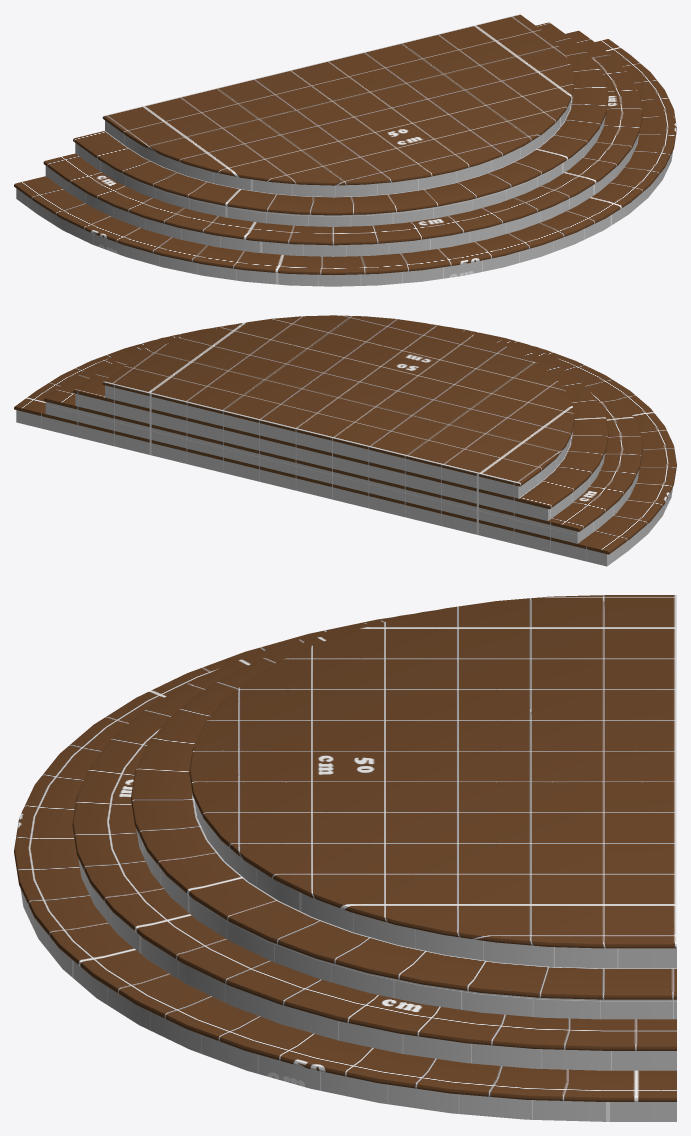
File: M01StairCase01_1.FBX
3 renders of one model, top to bottom at view 1: azimuth 30°, elevation 25°; view 2: azimuth 150°, elevation 25°; view 3: azimuth 270°, elevation 25°, orthographic. The views are drawn at different scales.
Visible parts, largest first — view 1: M01StairCase01_1; view 2: M01StairCase01_1; view 3: M01StairCase01_1.
Boxes of the visible parts, bbox=[...] form: M01StairCase01_1: bbox=[14, 14, 676, 286]; M01StairCase01_1: bbox=[14, 315, 676, 566]; M01StairCase01_1: bbox=[14, 595, 676, 1121].
Size of what is drawn, in the model's own units: 8.06 by 0.8 by 4.54.
